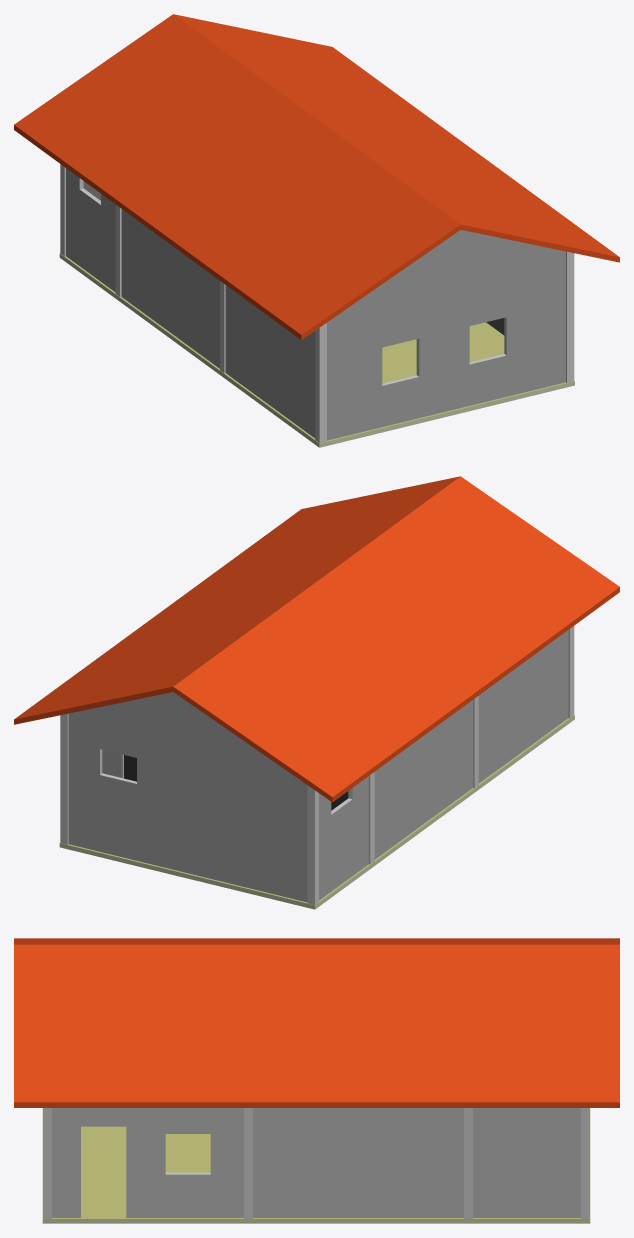
File: Casa C1-02.fbx
The picture shows the model from 3 angles, top to bottom: view 1: azimuth 30°, elevation 25°; view 2: azimuth 150°, elevation 25°; view 3: azimuth 270°, elevation 25°; orthographic projection. The views are drawn at different scales.
Parts seen in each view (by area): view 1: Cubo.001; view 2: Cubo.001; view 3: Cubo.001.
Part boxes in pixels (x1,y1,x2,y2): Cubo.001: [14, 14, 619, 447]; Cubo.001: [14, 476, 619, 909]; Cubo.001: [14, 938, 619, 1223].
Bounding box in the file's own units: 1721 × 1043 × 2689.
